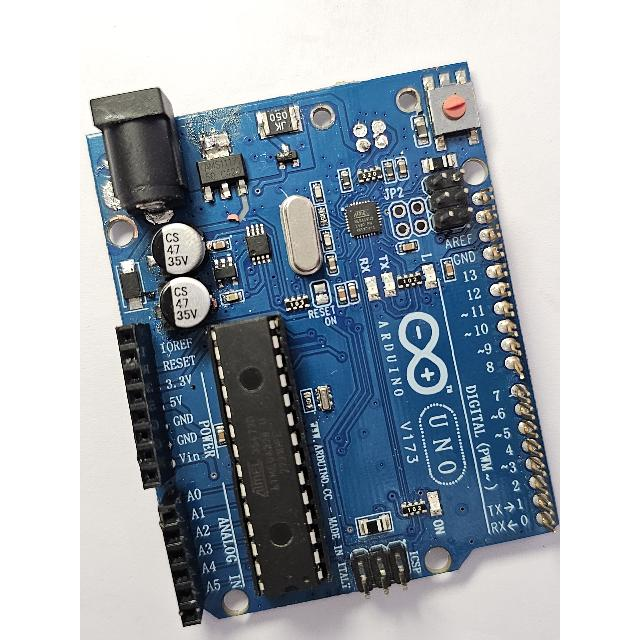missing_digital_pins: (469, 180, 556, 540)
missing_usb: (304, 76, 424, 169)
